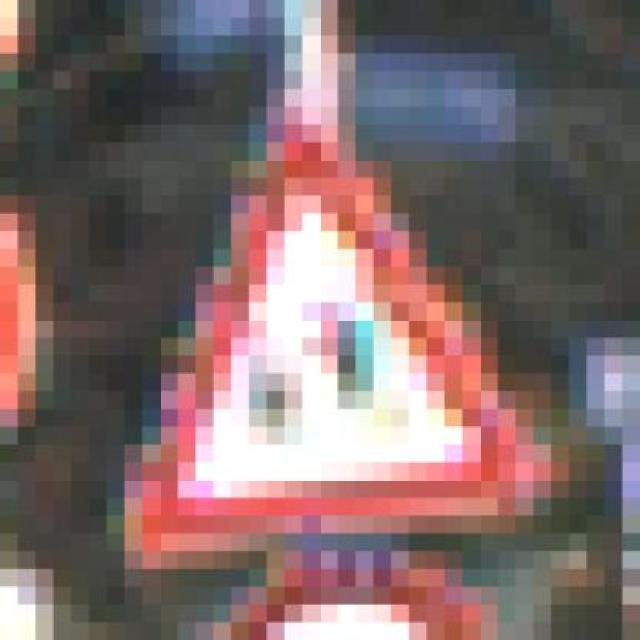Beware of children: (106, 107, 569, 551)
